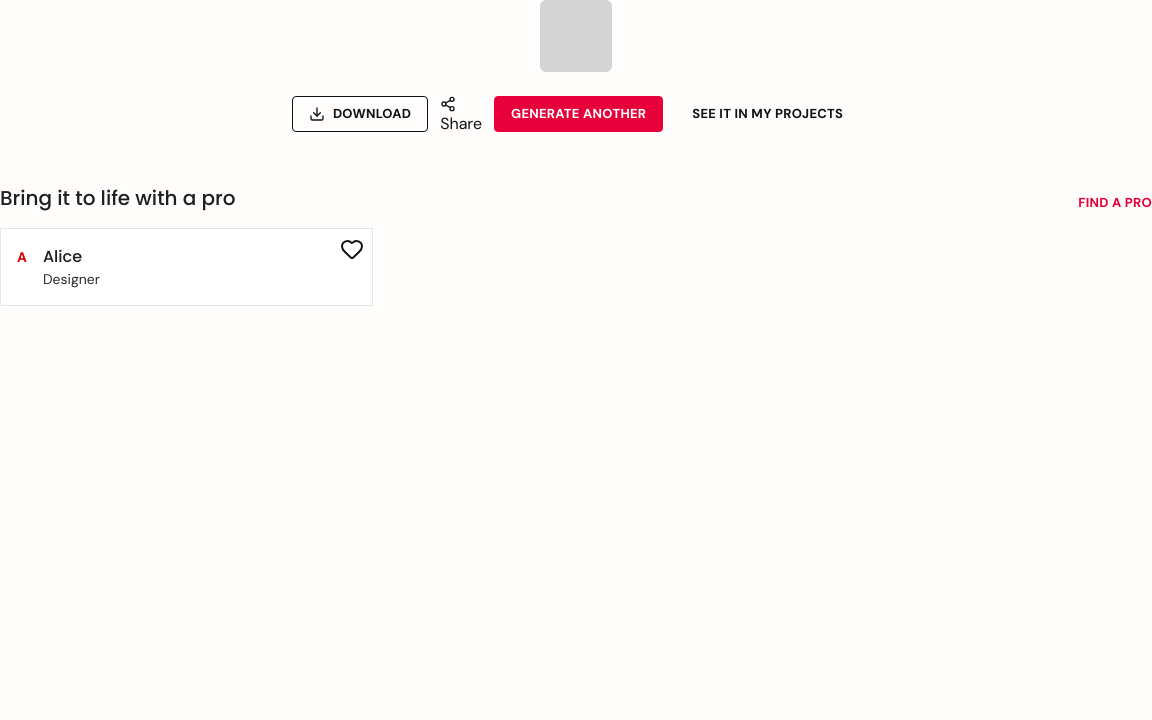
Test: ResultView (RS1, RS2, RS4) › Share opens the shared sheet with X, Facebook, LinkedIn, Pinterest, Telegram, Download and Copy link
This screenshot has width=1152, height=720.
Click the button "Share": click(461, 116) [440, 96, 482, 136]
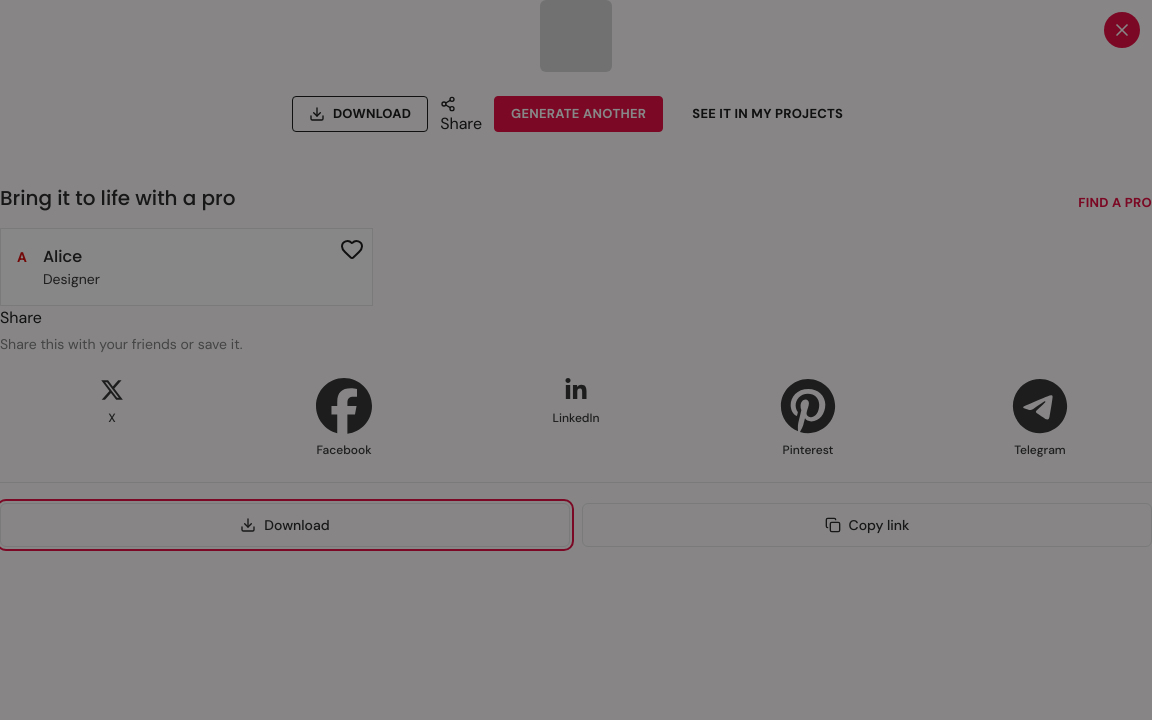
Now the link "X" is shown, box [100, 378, 124, 426]
Now the link "Facebook" is shown, box [316, 378, 372, 458]
Now the link "LinkedIn" is shown, box [552, 378, 599, 426]
